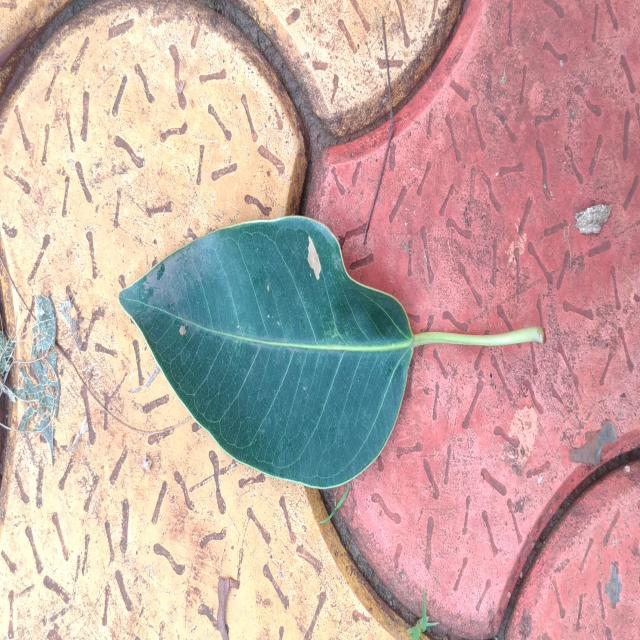camphor: (120, 216, 421, 489)
